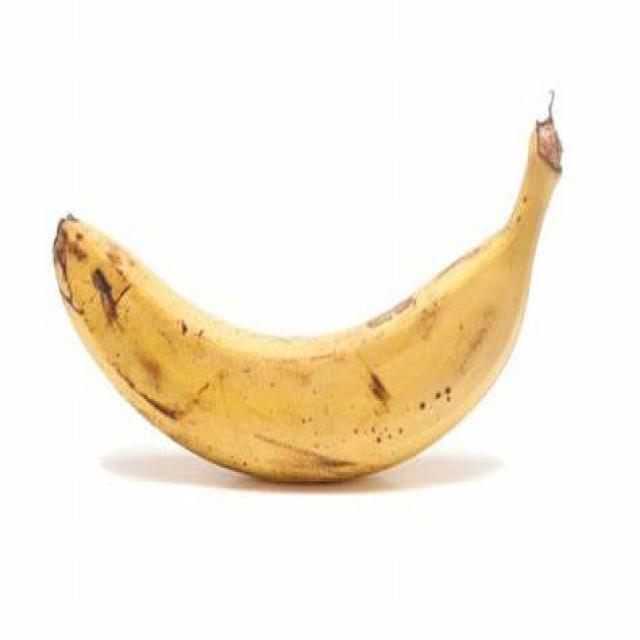Banana: (51, 111, 568, 492)
